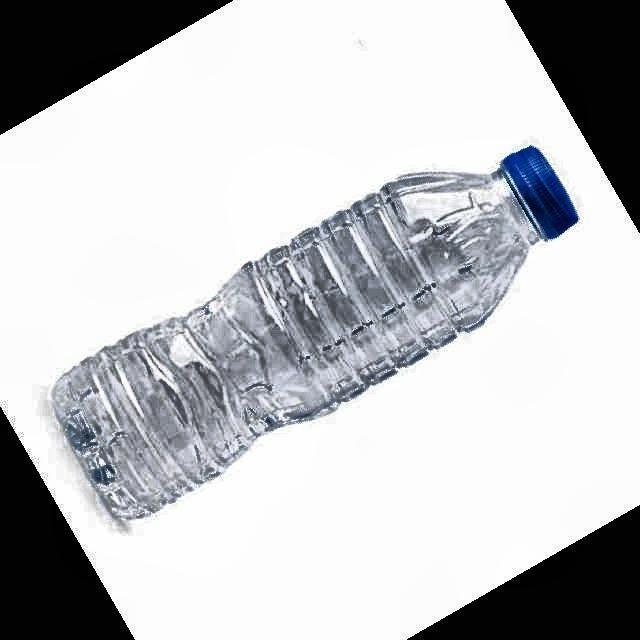plastic: (54, 148, 578, 518)
